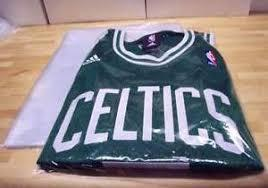Postal packaging: (31, 15, 258, 180)
